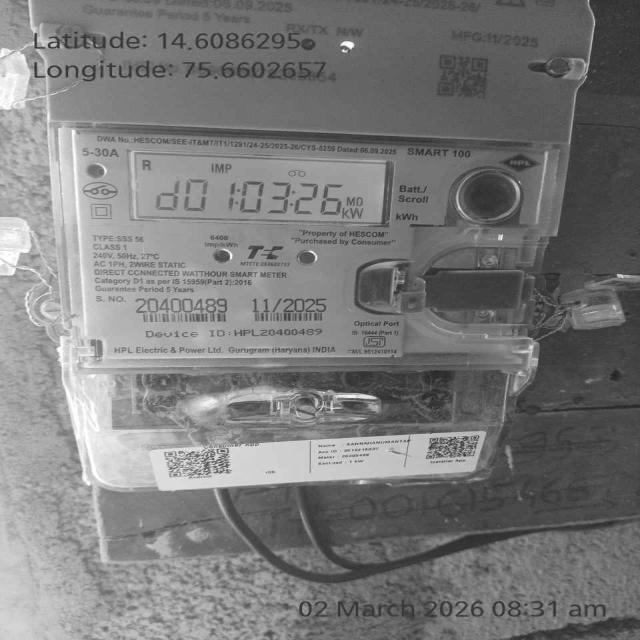meter: (31, 0, 596, 357)
